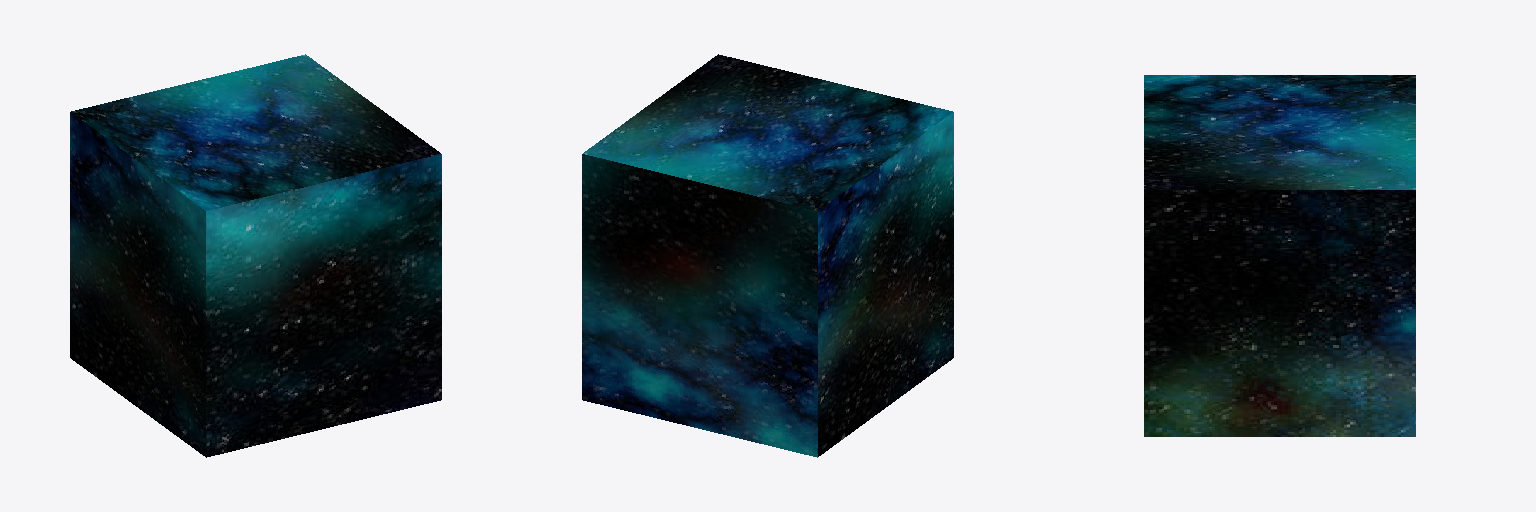
3 views of the same model, side by side, from view 1: azimuth 30°, elevation 25°; view 2: azimuth 150°, elevation 25°; view 3: azimuth 270°, elevation 25° (orthographic).
Parts seen in each view (by area): view 1: Cube; view 2: Cube; view 3: Cube.
Part boxes in pixels (x1,y1,x2,y2): Cube: (70, 54, 441, 457); Cube: (582, 54, 953, 457); Cube: (1144, 75, 1415, 436).
Size of the model in its own units: 2 by 2 by 2.
Materials: 1 (1 with a texture image).